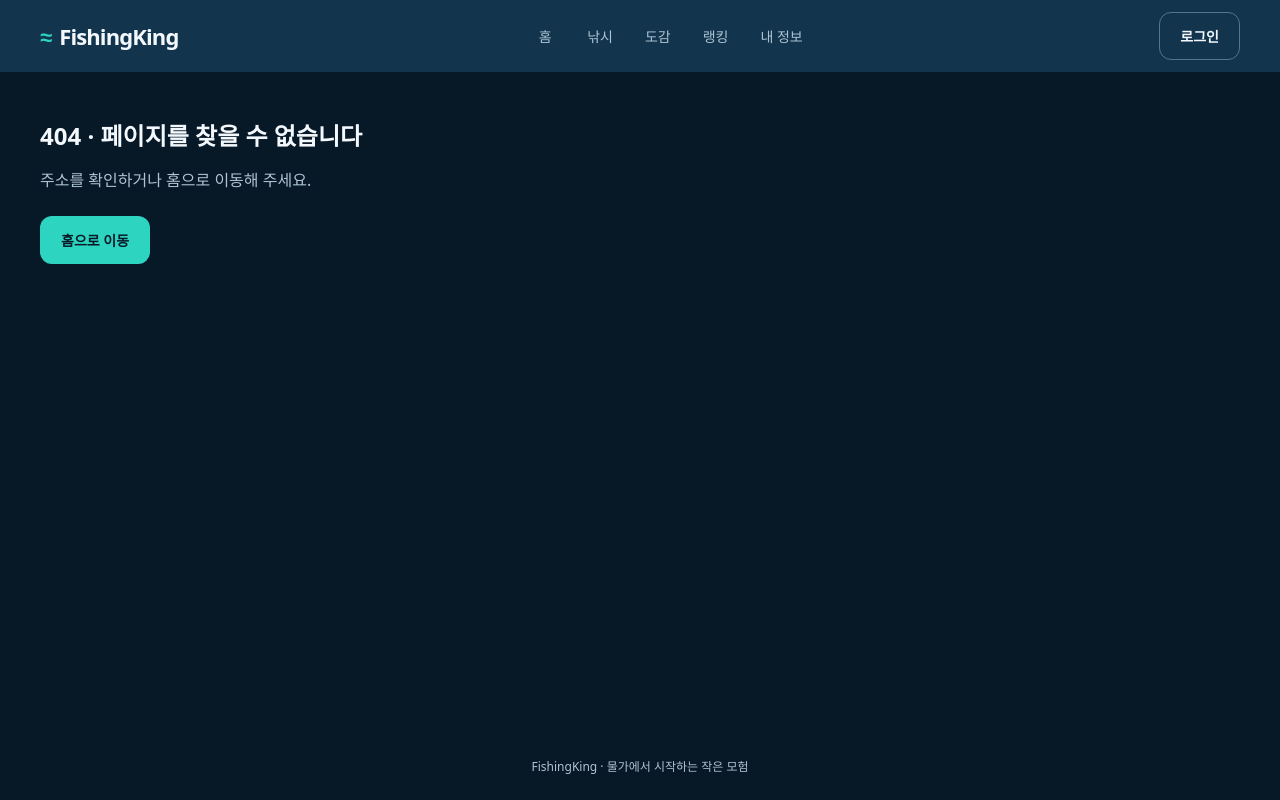
Scenario: 페이지와 내비게이션 › 404 페이지에서 홈으로 복귀한다
Expected: the heading "404 · 페이지를 찾을 수 없습니다" is shown, [40,119,362,152]
Click the link "홈으로 이동" at point(95, 240), box [40,216,150,264]
(page scrolled)
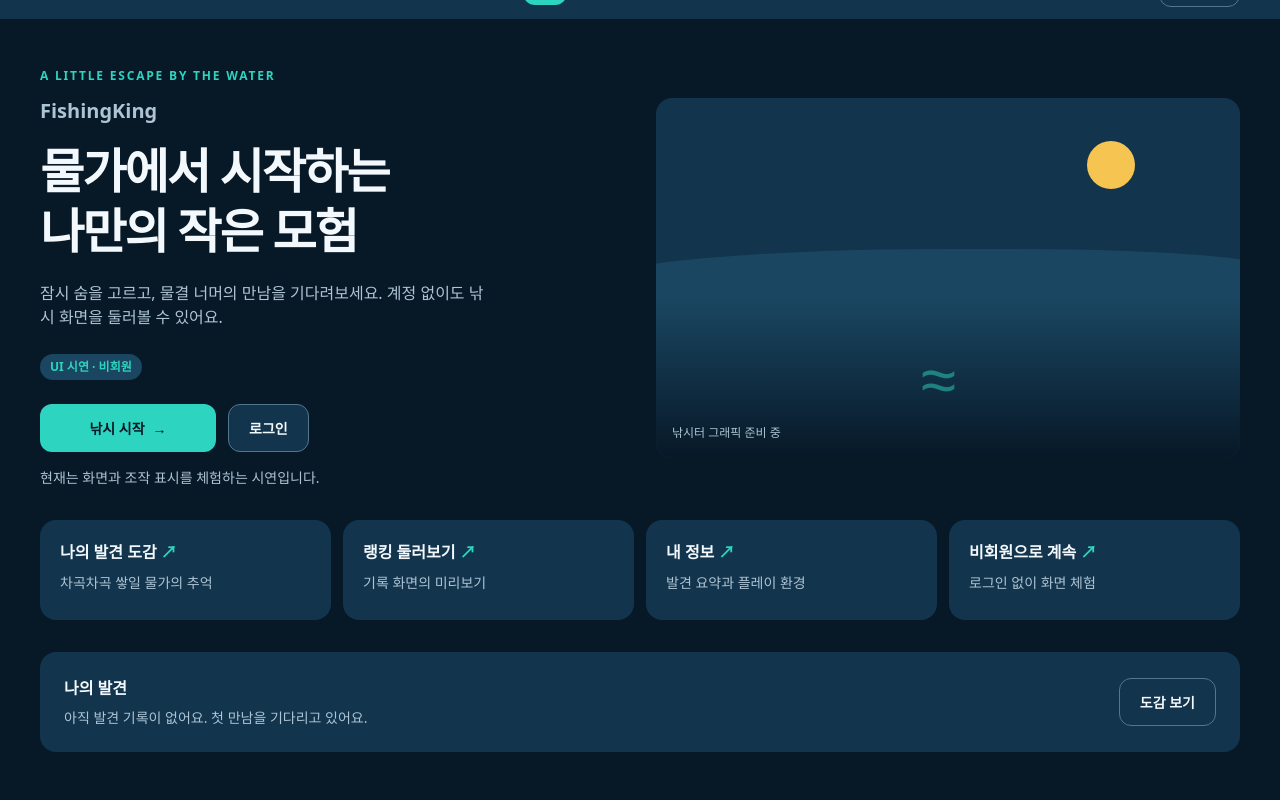
Result: the heading "FishingKing" is shown at [40,97,157,124]
